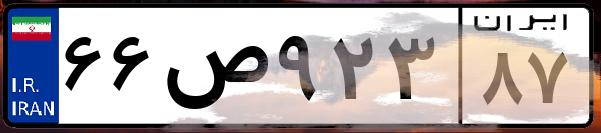2: (330, 28, 385, 110)
3: (385, 28, 445, 110)
6: (57, 26, 110, 100), (110, 28, 158, 98)
7: (525, 38, 570, 115)
8: (475, 38, 525, 113)
9: (270, 28, 330, 110)
ص: (158, 20, 270, 120)
